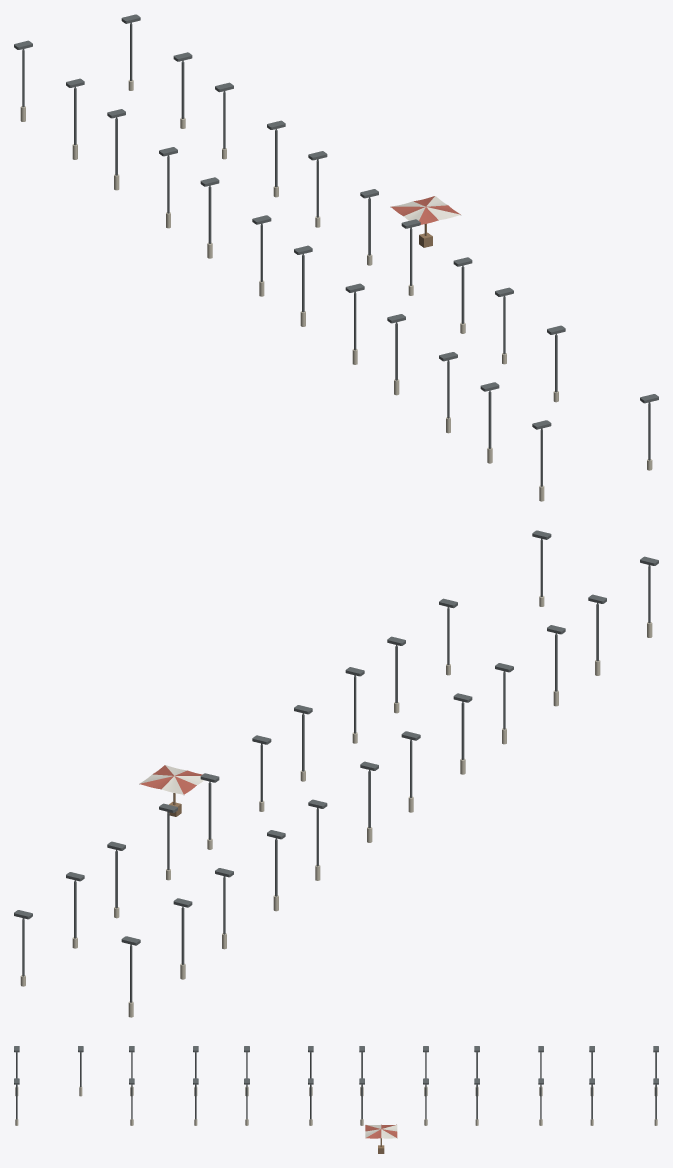
3 views of the same model, one above another, from view 1: azimuth 30°, elevation 25°; view 2: azimuth 150°, elevation 25°; view 3: azimuth 270°, elevation 25° (orthographic). The views are drawn at different scales.
Visible parts, largest first — view 1: buildings_s_-6_-4_Dark_Metal, buildings_s_-6_-4_Warm_Limestone; view 2: buildings_s_-6_-4_Dark_Metal, buildings_s_-6_-4_Warm_Limestone; view 3: buildings_s_-6_-4_Dark_Metal, buildings_s_-6_-4_Warm_Limestone, buildings_s_-6_-4_Inferred_Shade_Fabric_Red, buildings_s_-6_-4_Inferred_Shade_Fabric_White.
Part boxes in pixels (left/top/right/bottom): buildings_s_-6_-4_Dark_Metal: left=14, top=14, right=658, bottom=486; buildings_s_-6_-4_Warm_Limestone: left=20, top=79, right=652, bottom=501; buildings_s_-6_-4_Dark_Metal: left=14, top=530, right=658, bottom=1002; buildings_s_-6_-4_Warm_Limestone: left=20, top=595, right=652, bottom=1017; buildings_s_-6_-4_Dark_Metal: left=14, top=1046, right=658, bottom=1119; buildings_s_-6_-4_Warm_Limestone: left=15, top=1086, right=657, bottom=1125; buildings_s_-6_-4_Inferred_Shade_Fabric_Red: left=365, top=1124, right=397, bottom=1138; buildings_s_-6_-4_Inferred_Shade_Fabric_White: left=365, top=1124, right=397, bottom=1138.
Bounding box in the file's own units: 23.37 × 8.68 × 101.
